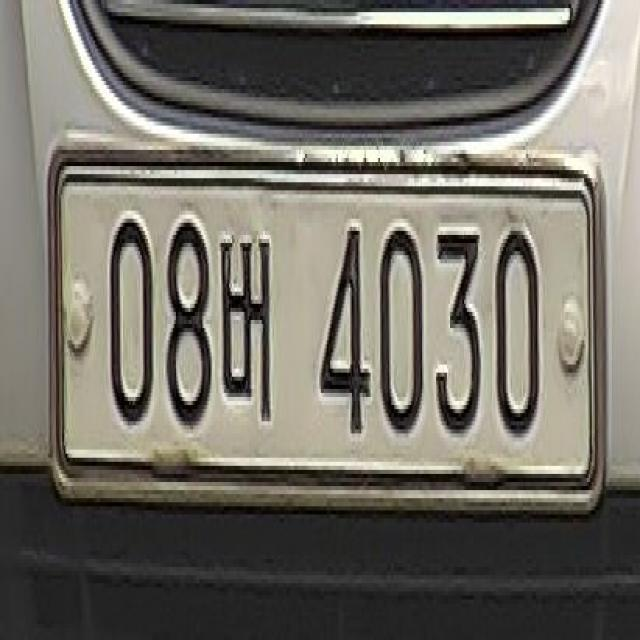0: (493, 214, 556, 448), (107, 200, 156, 438), (377, 223, 429, 433)
3: (434, 215, 491, 452)
4: (317, 214, 375, 444)
8: (164, 206, 214, 443)
beo: (218, 220, 282, 445)
license_plate: (44, 146, 611, 518)
